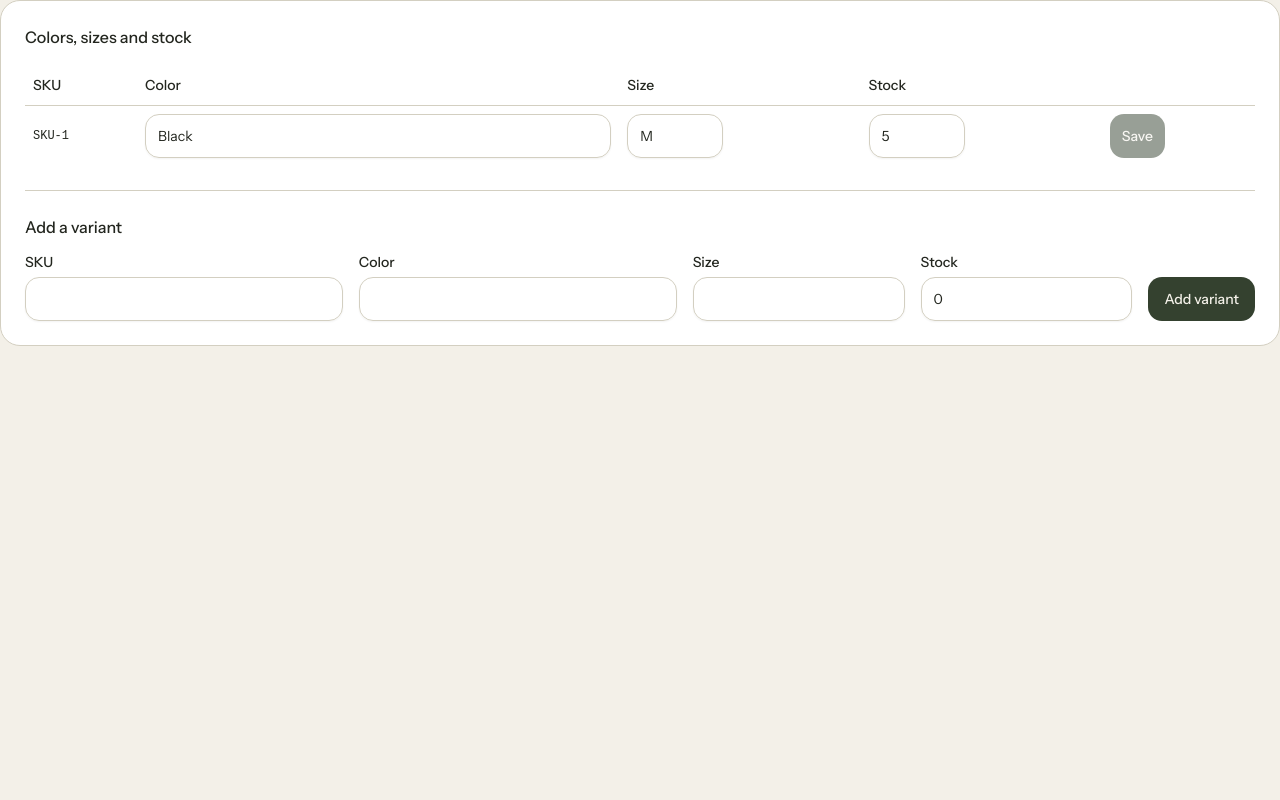
Scenario: VariantsSection: the variants of a product › changing a variant › sets an exact stock number, sends only what changed, and says so in a toast
This screenshot has width=1280, height=800.
Replace the text in the field named "Stock of SKU-1" with "0" at (916, 136), box [868, 114, 964, 158]
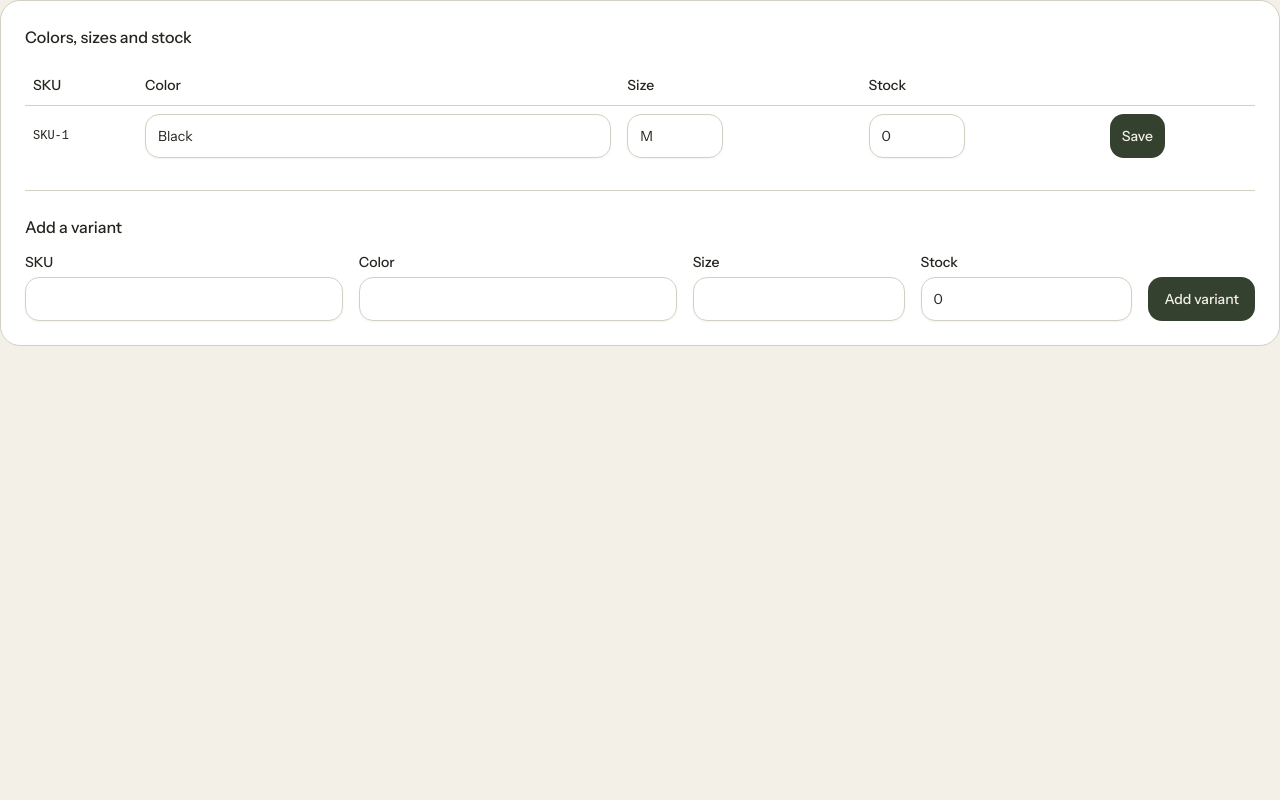
Click the button "Save".
click(1137, 136)  # box [1110, 114, 1165, 158]
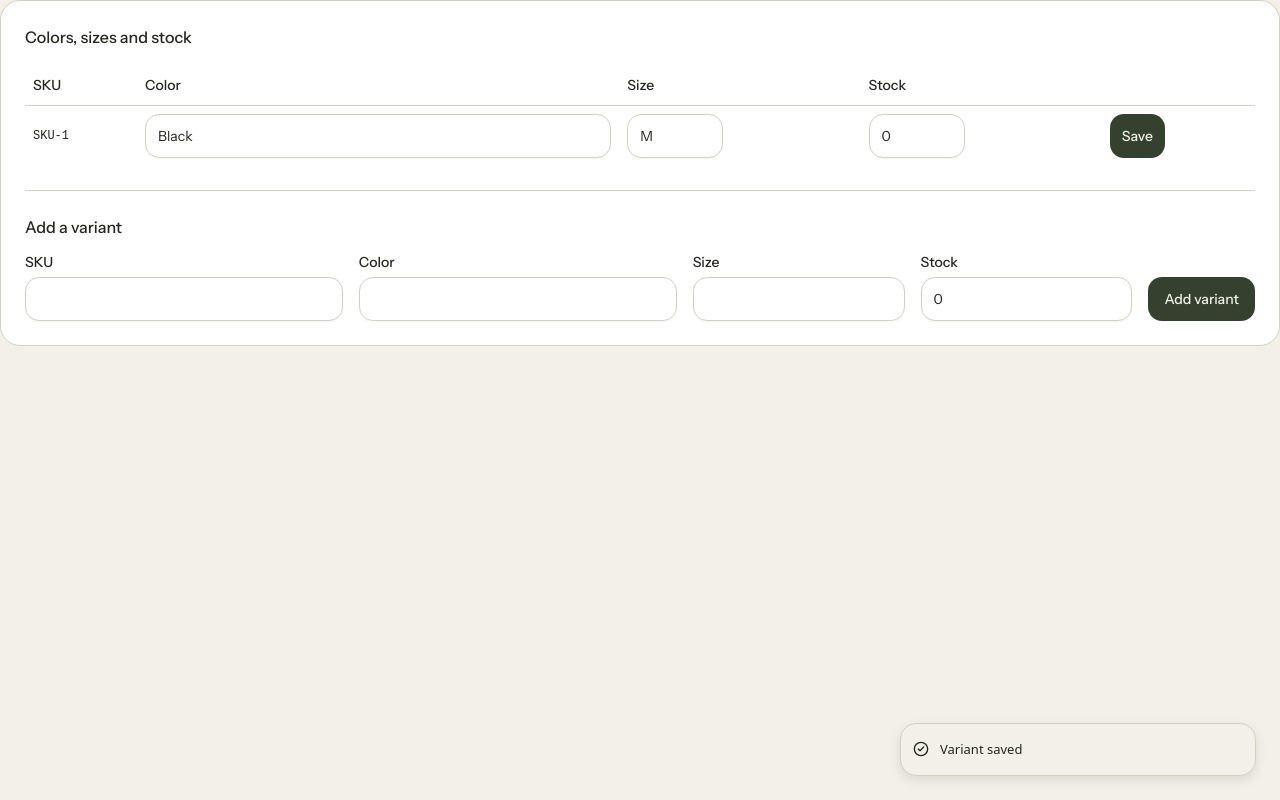
Result: the text "Variant saved" is shown at [940, 740, 1022, 759]
